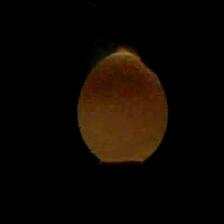infertile: (76, 49, 170, 171)
